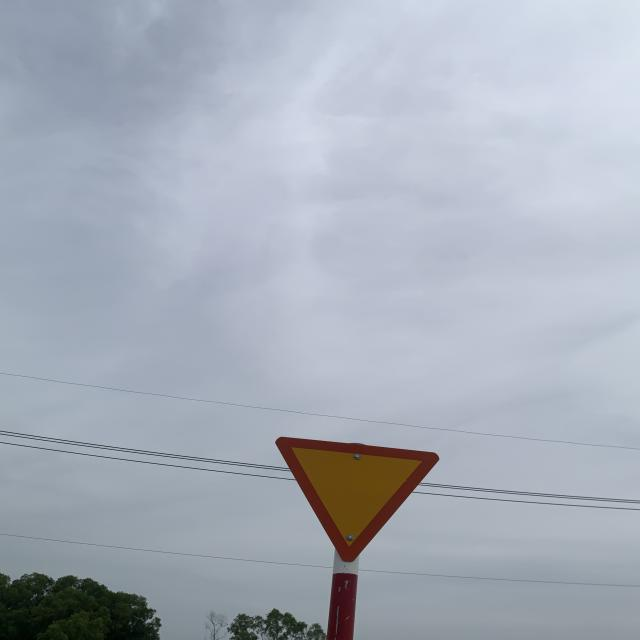Gioi_Han_Toc_Do_25: (276, 435, 440, 561)
